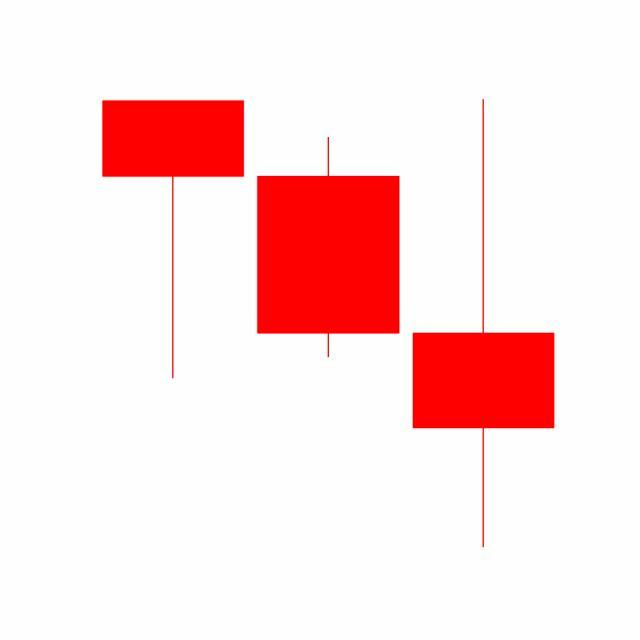Marubozu: (250, 135, 407, 361)
